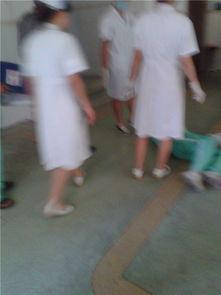Fall-Detected: (141, 110, 220, 189)
